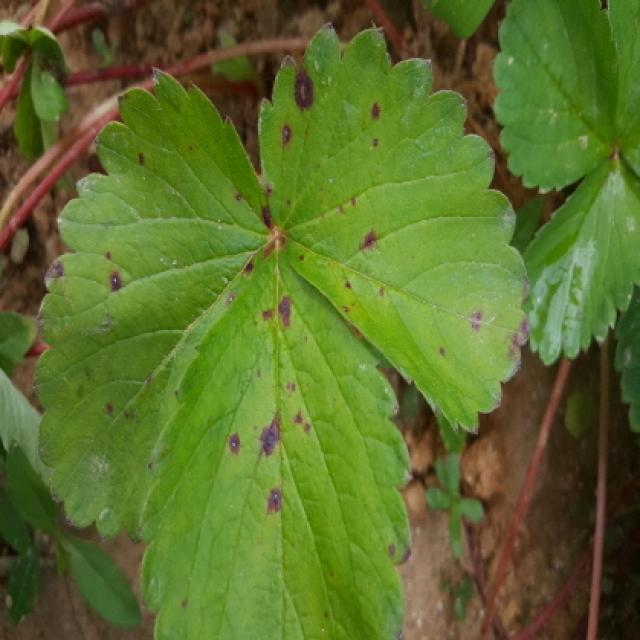Leaf Spot: (30, 65, 275, 544), (256, 20, 533, 435), (139, 236, 413, 638)
